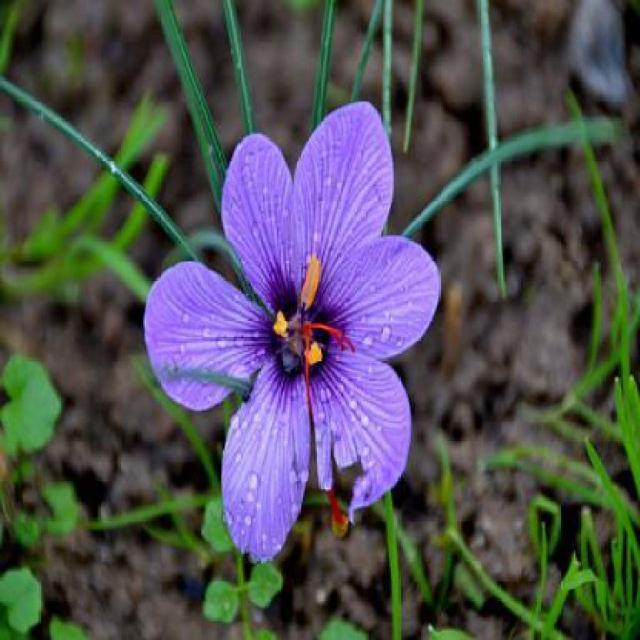Flower: (146, 97, 439, 568)
stigma: (306, 320, 355, 348), (324, 488, 353, 530), (294, 254, 298, 256)
